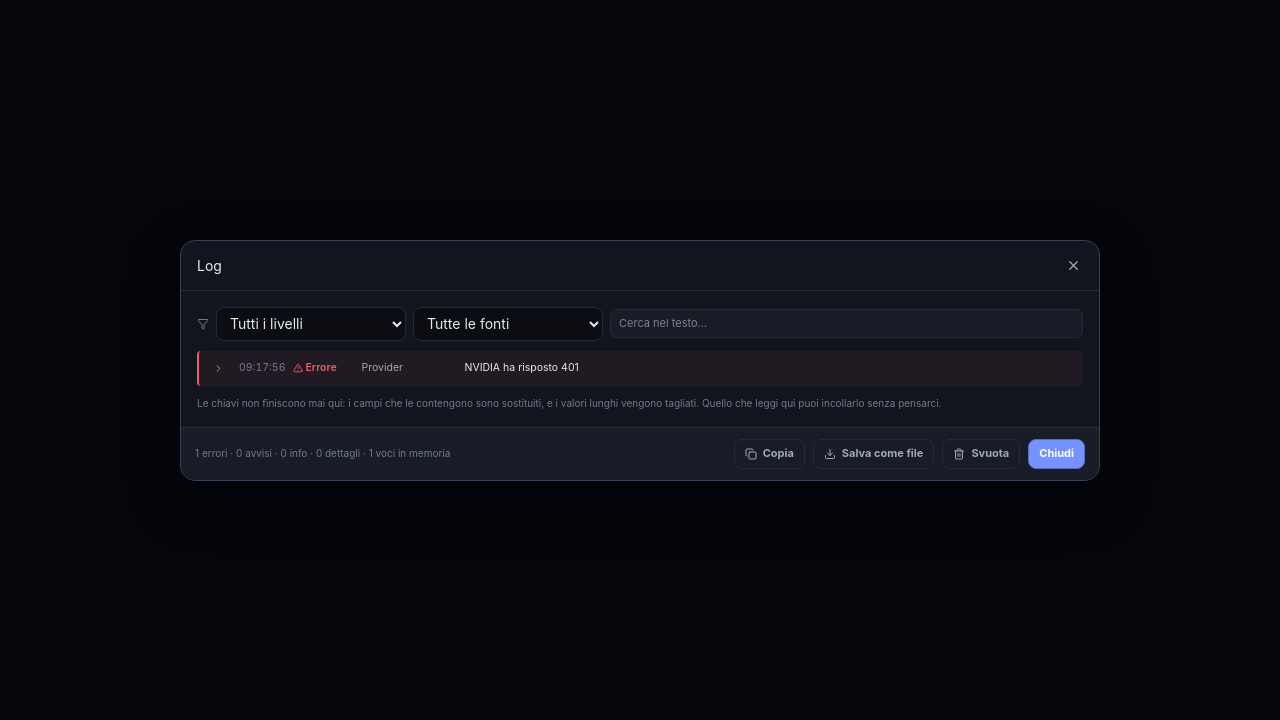
Test: il pannello del registro › apre e chiude il dettaglio
Check: the text "stato" is not shown
Click the button named "Apri il dettaglio" at [218, 368], box 205,354 -> 232,382
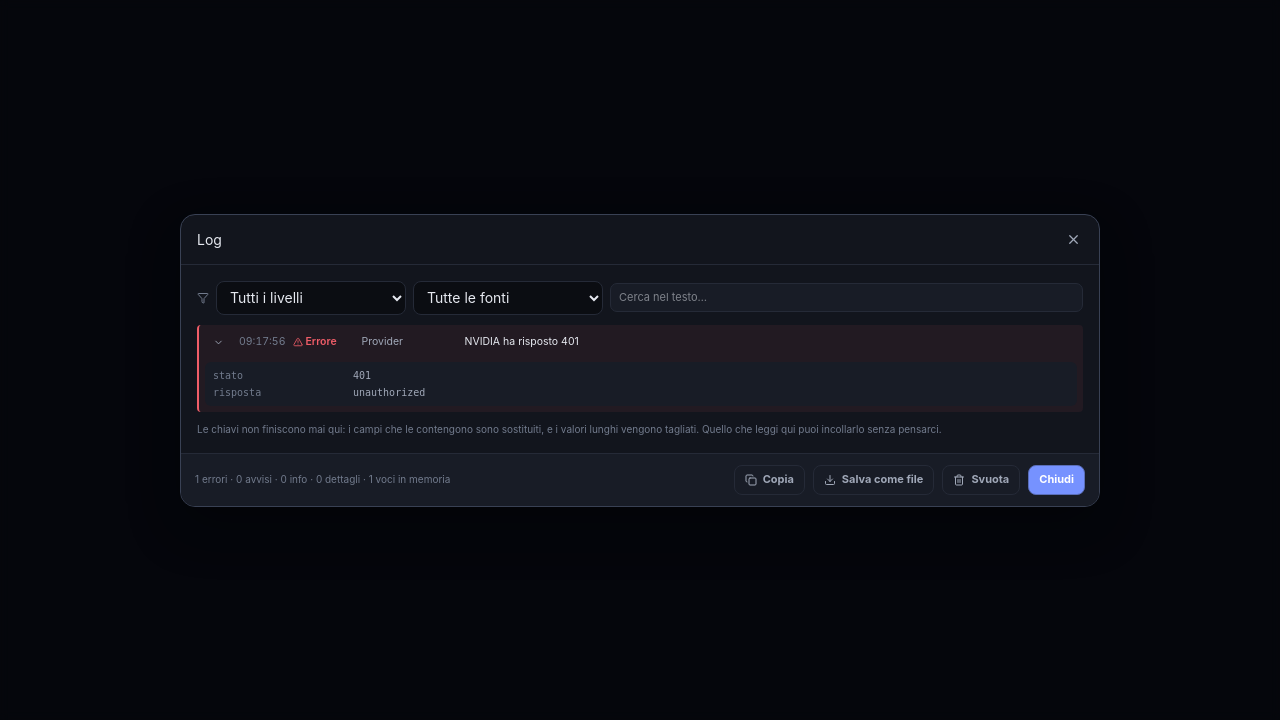
Check: the text "stato" is shown, box 213,370 -> 243,380
Check: the text "401" is shown, box 353,370 -> 371,380
